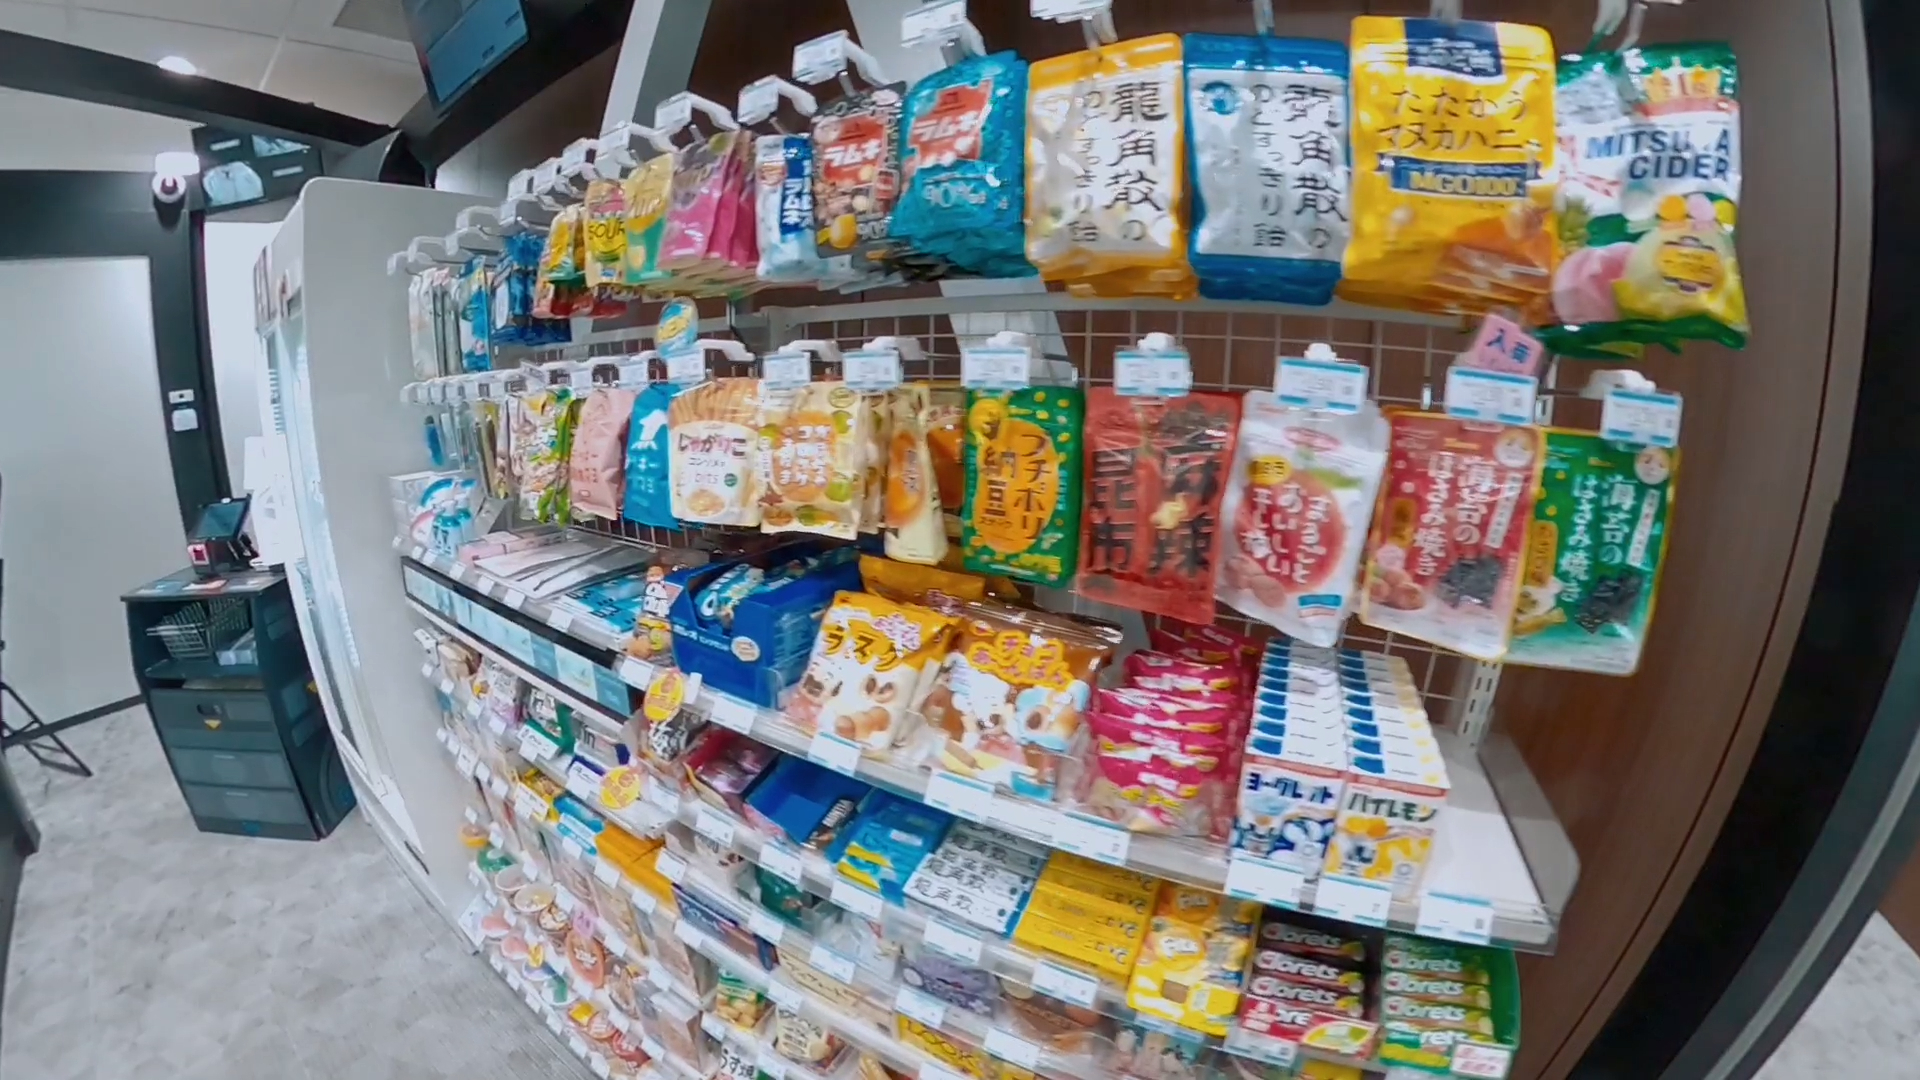NorinoHasamiyaki: (1509, 430, 1674, 678)
